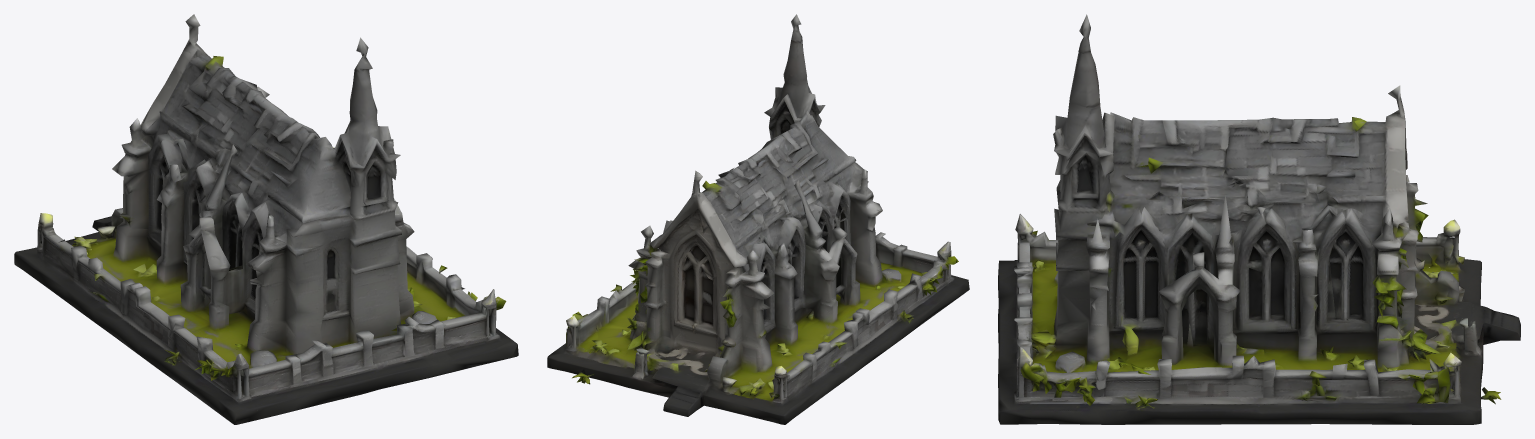
The model's file is chapel_ruins.glb.
3 renders of one model, left to right at view 1: azimuth 30°, elevation 25°; view 2: azimuth 150°, elevation 25°; view 3: azimuth 270°, elevation 25°, orthographic. The views are drawn at different scales.
Parts seen in each view (by area): view 1: tripo_node_d48ccf80-3e13-49c7-a899-11f972a4fd2b; view 2: tripo_node_d48ccf80-3e13-49c7-a899-11f972a4fd2b; view 3: tripo_node_d48ccf80-3e13-49c7-a899-11f972a4fd2b.
Boxes of the visible parts, x1,y1,x2,y2 form: tripo_node_d48ccf80-3e13-49c7-a899-11f972a4fd2b: (14,14,518,424); tripo_node_d48ccf80-3e13-49c7-a899-11f972a4fd2b: (547,14,969,424); tripo_node_d48ccf80-3e13-49c7-a899-11f972a4fd2b: (998,14,1520,424).
Size of the model in its own units: 0.6955 by 0.7397 by 1.
1 material, 1 textured.
